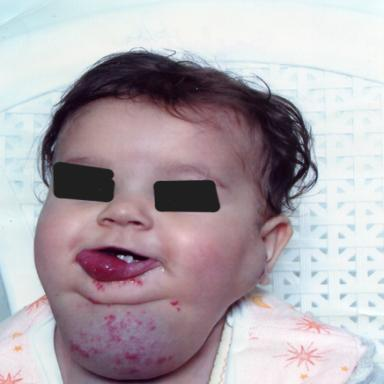Hemangiome: (76, 250, 128, 281)
